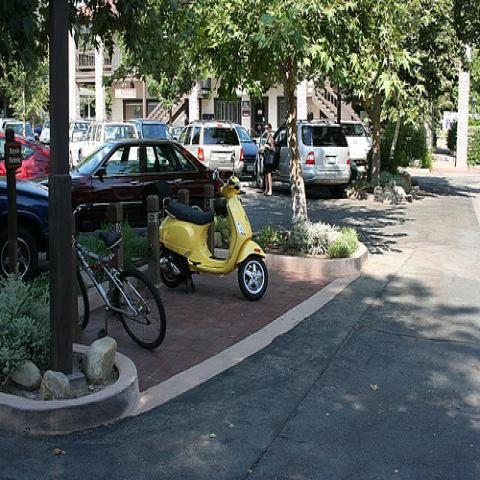car: (71, 137, 231, 232), (0, 175, 49, 279), (177, 120, 246, 176), (76, 121, 140, 162), (1, 132, 50, 179), (232, 123, 258, 182), (341, 120, 374, 164), (129, 118, 175, 140), (39, 120, 50, 144)
motorcycle: (153, 172, 272, 298)
truck: (272, 118, 351, 200)
